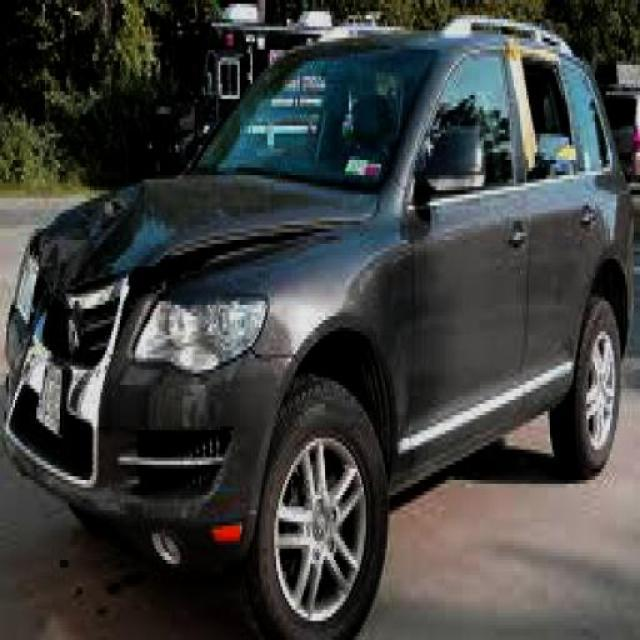car damage: (8, 179, 367, 494)
